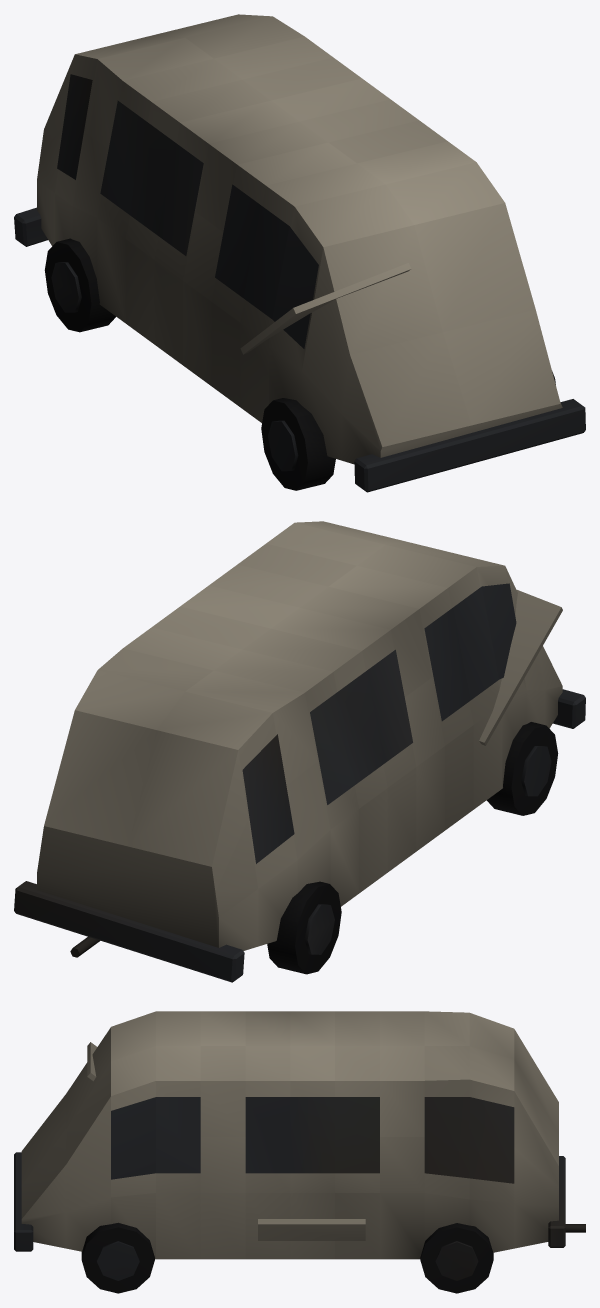
File: wreck_van.glb
The picture shows the model from 3 angles, top to bottom: view 1: azimuth 30°, elevation 25°; view 2: azimuth 150°, elevation 25°; view 3: azimuth 270°, elevation 25°; orthographic projection. The views are drawn at different scales.
Parts seen in each view (by area): view 1: paint, metal_dark, rubber; view 2: paint, metal_dark, rubber; view 3: paint, metal_dark, rubber.
Part boxes in pixels (x1=…): paint: x1=37, y1=14, x2=562, y2=464; metal_dark: x1=14, y1=74, x2=585, y2=492; rubber: x1=44, y1=238, x2=555, y2=490; paint: x1=37, y1=521, x2=562, y2=950; metal_dark: x1=14, y1=583, x2=585, y2=982; rubber: x1=267, y1=722, x2=558, y2=974; paint: x1=21, y1=1011, x2=558, y2=1259; metal_dark: x1=14, y1=1097, x2=585, y2=1280; rubber: x1=81, y1=1222, x2=493, y2=1293.
Size of what is drawn, in the model's own units: 2.63 by 2.05 by 5.32.
